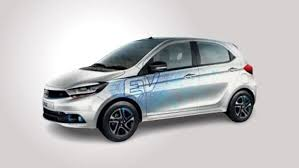Tiago: (40, 35, 259, 144)
